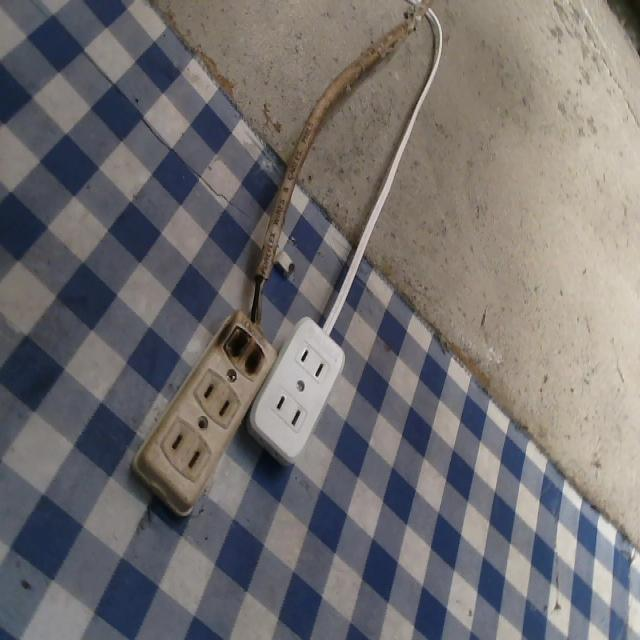-: (212, 309, 273, 384)
